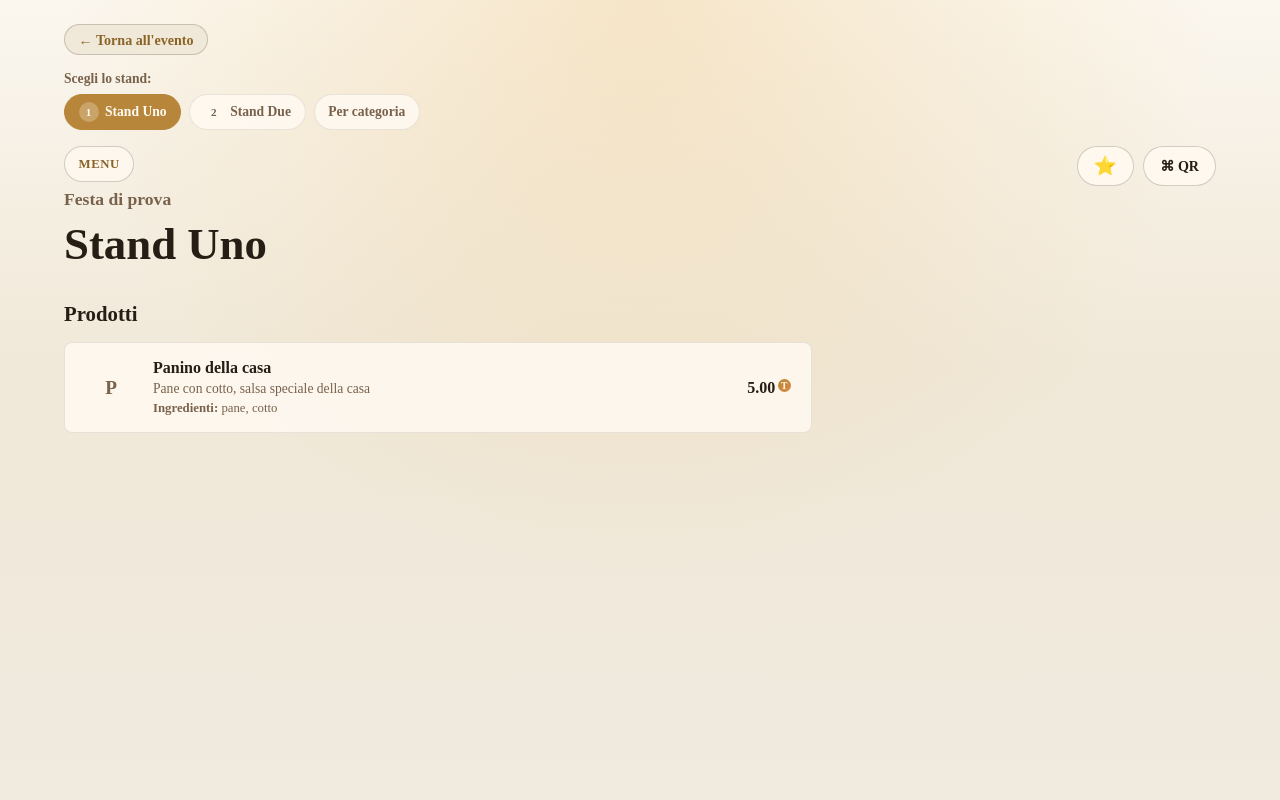
Test: menu stand — descrizione del prodotto in elenco › il modale mostra la descrizione per esteso
Click the text "Panino della casa". click: (212, 367)
box: [153, 359, 271, 376]
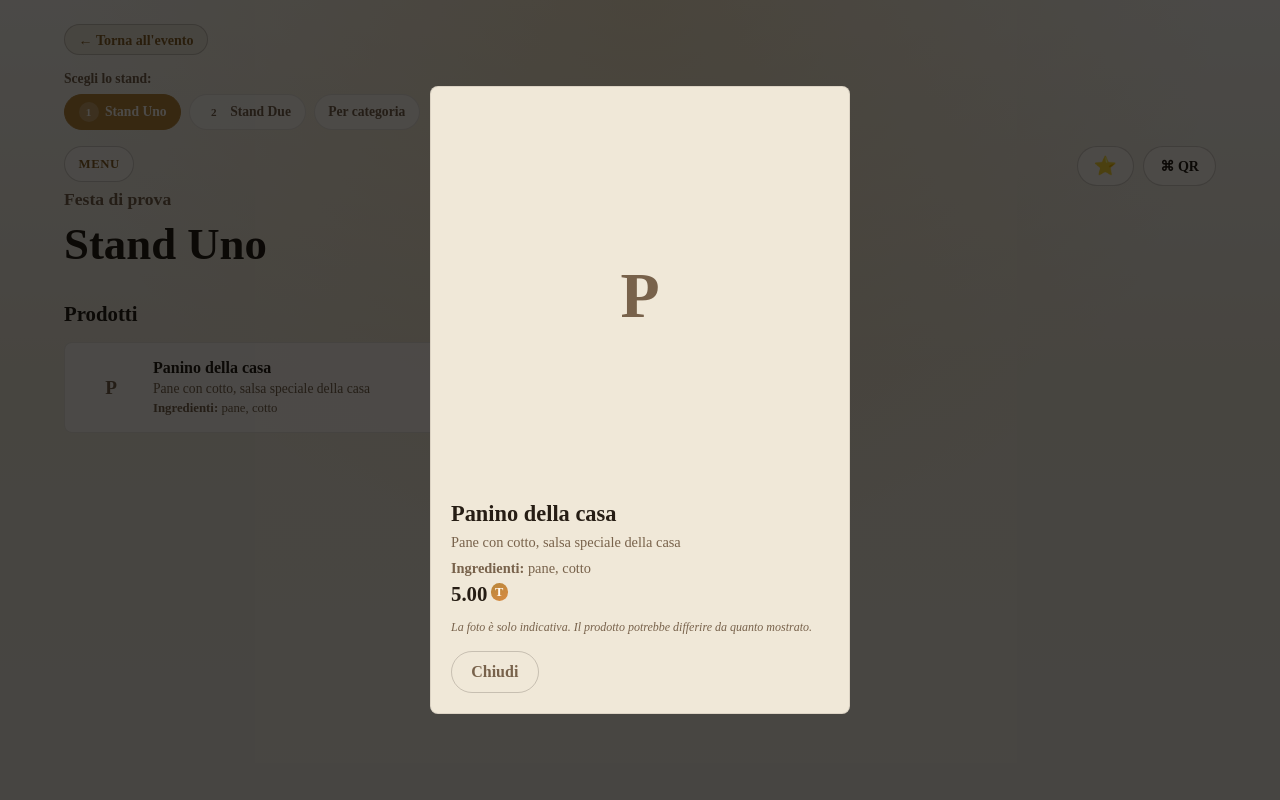
Expected: the dialog shows "Pane con cotto, salsa speciale della casa", [451, 534, 681, 550]
